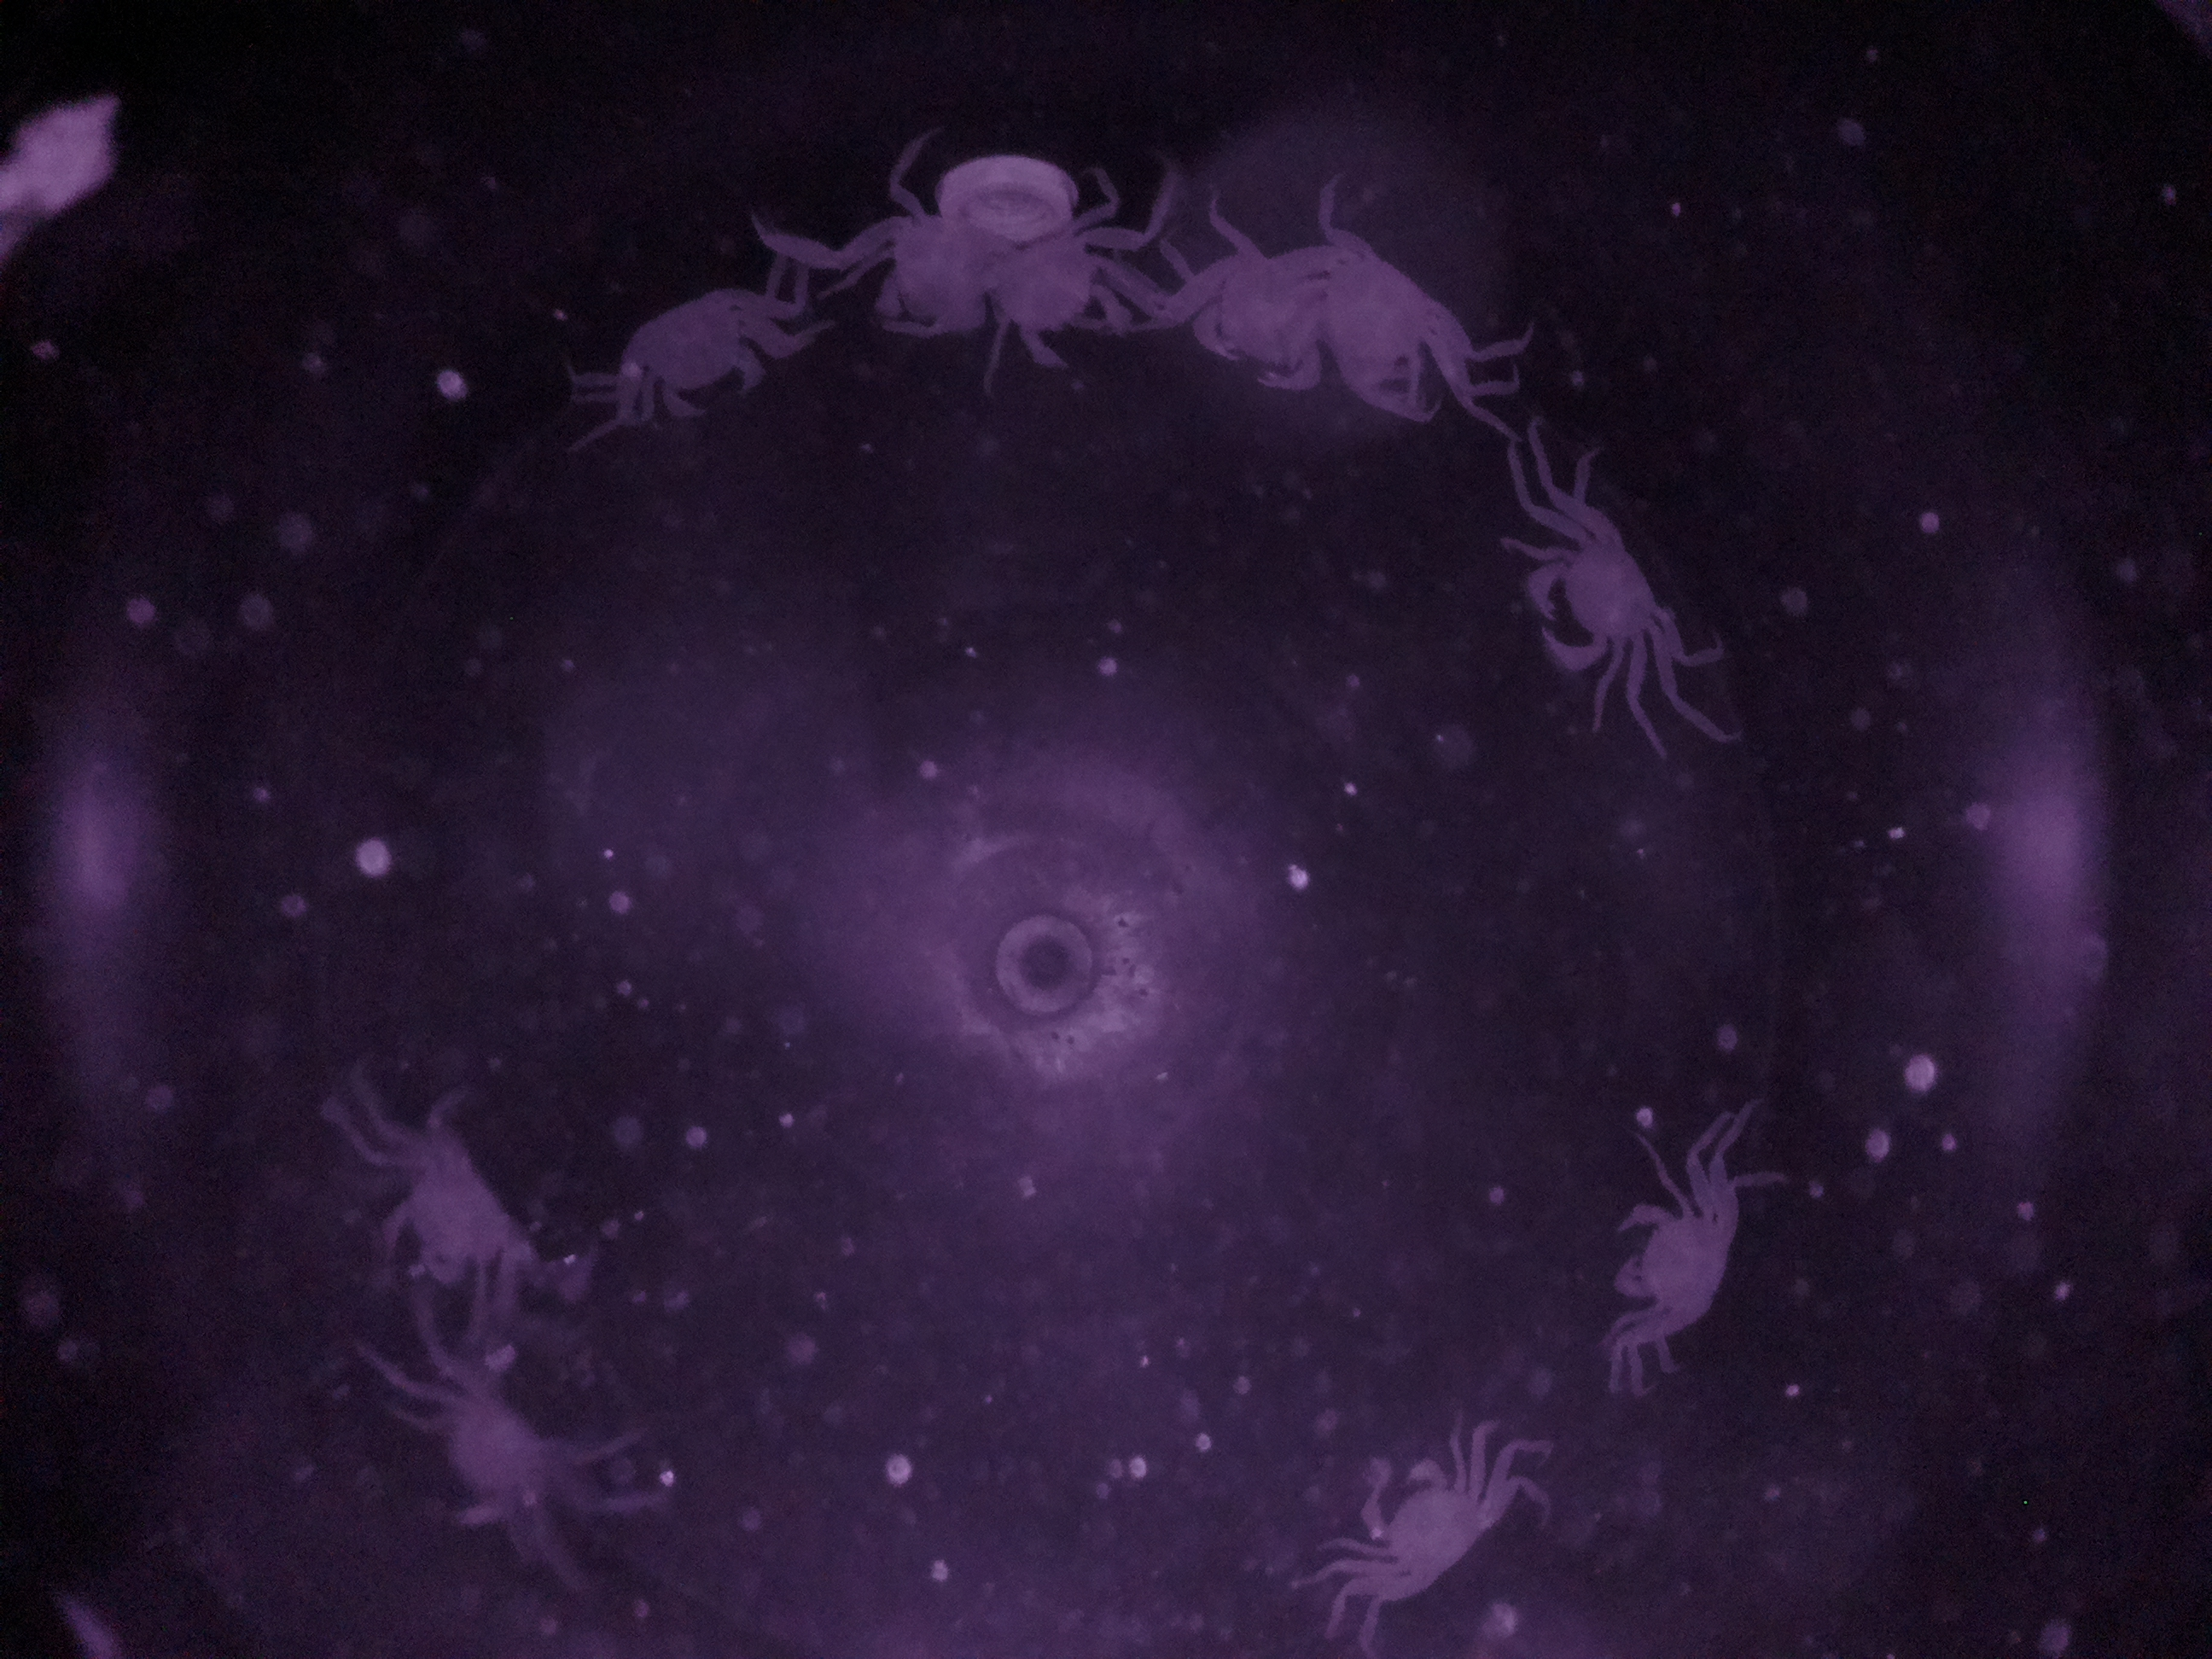Crab: (1507, 497, 1702, 711), (1317, 1417, 1526, 1614), (594, 261, 799, 439), (1590, 1157, 1750, 1366)
